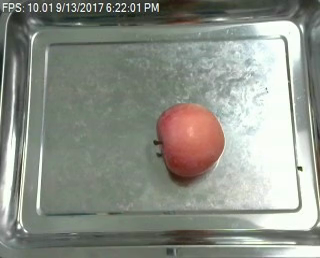Apple: (154, 99, 226, 181)
